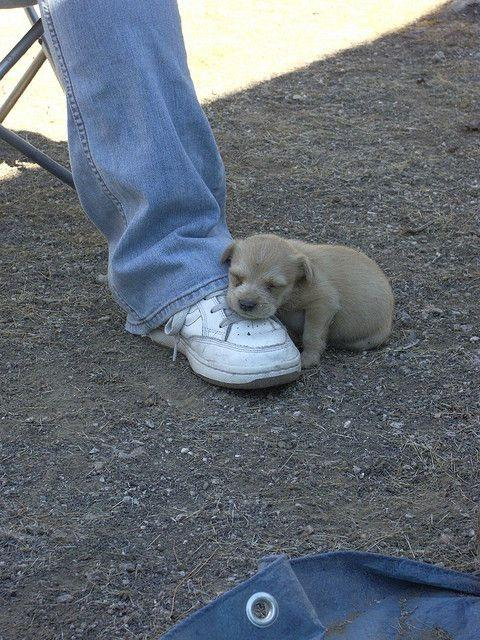non-dog: (40, 1, 304, 390)
puppy-dog: (221, 228, 397, 374)
